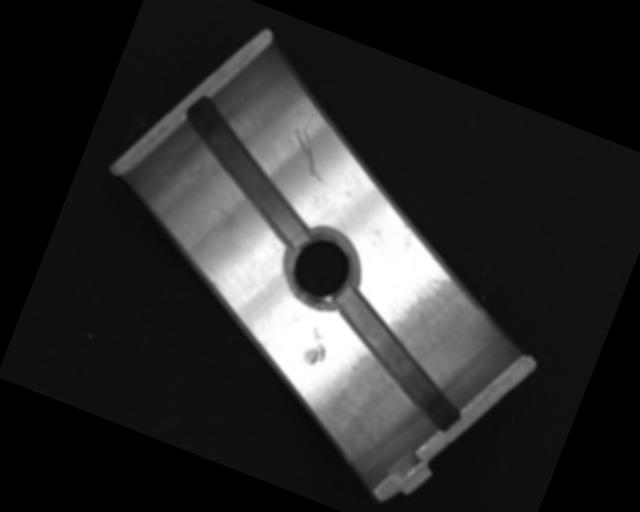bruise: (299, 325, 334, 370)
gap: (154, 92, 340, 250), (310, 284, 487, 434)
hole: (272, 221, 367, 315)
nick: (278, 124, 337, 186), (209, 205, 235, 220)
